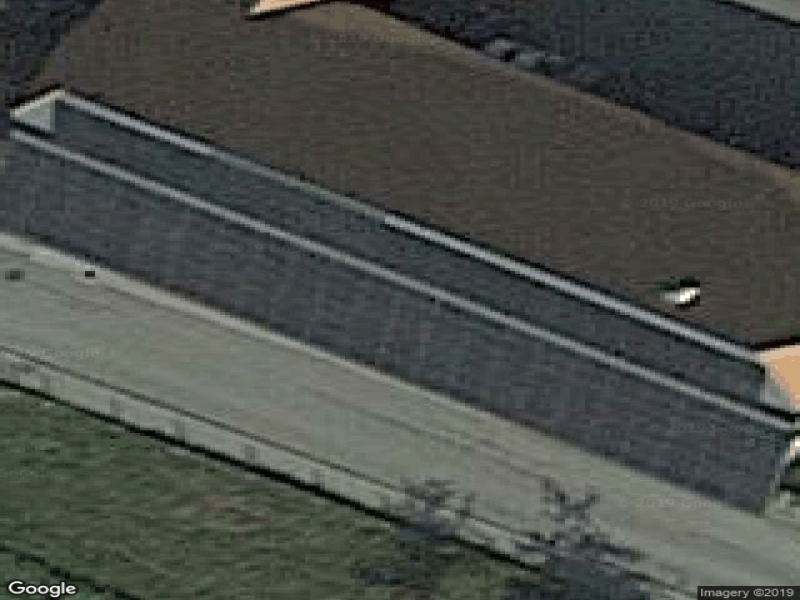pv: (1, 100, 794, 519)
